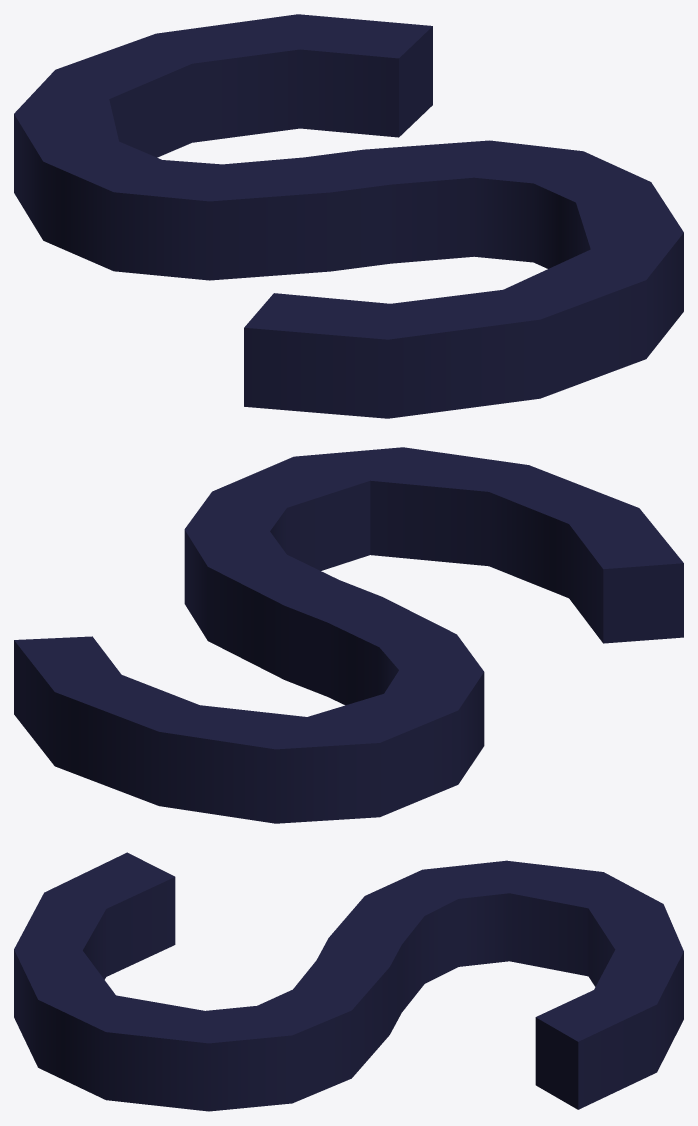
3 renders of one model, top to bottom at view 1: azimuth 30°, elevation 25°; view 2: azimuth 150°, elevation 25°; view 3: azimuth 270°, elevation 25°, orthographic. The views are drawn at different scales.
Visible parts, largest first — view 1: S; view 2: S; view 3: S.
Part boxes in pixels (left/top/right/bottom): S: left=14, top=14, right=683, bottom=418; S: left=14, top=447, right=683, bottom=823; S: left=14, top=852, right=683, bottom=1111.
Size of the model in its own units: 0.151 by 0.0251 by 0.2239.
